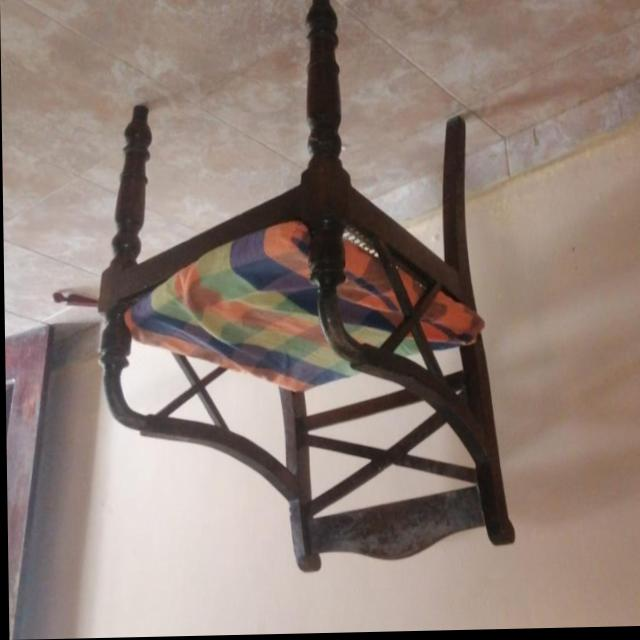Chair: (94, 0, 516, 578)
